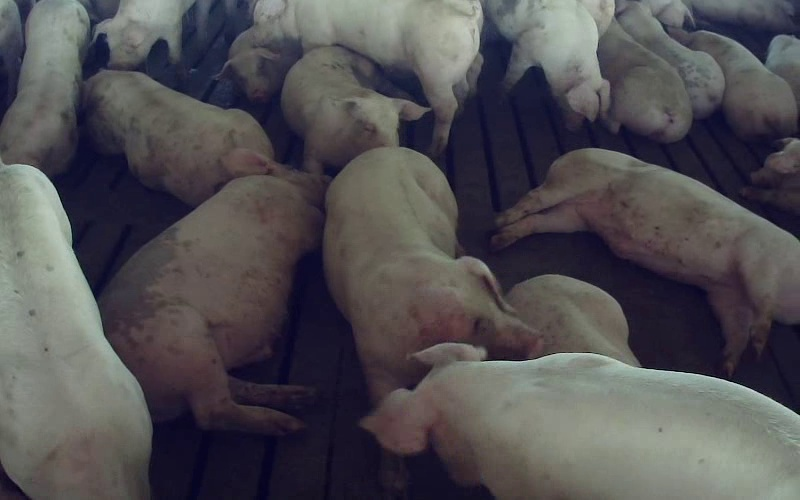pig: (492, 148, 799, 374), (362, 345, 799, 499), (99, 150, 326, 434), (323, 147, 540, 404), (253, 0, 482, 155), (83, 70, 273, 204), (281, 46, 428, 174), (484, 0, 609, 129), (669, 29, 797, 140), (616, 0, 724, 117)
